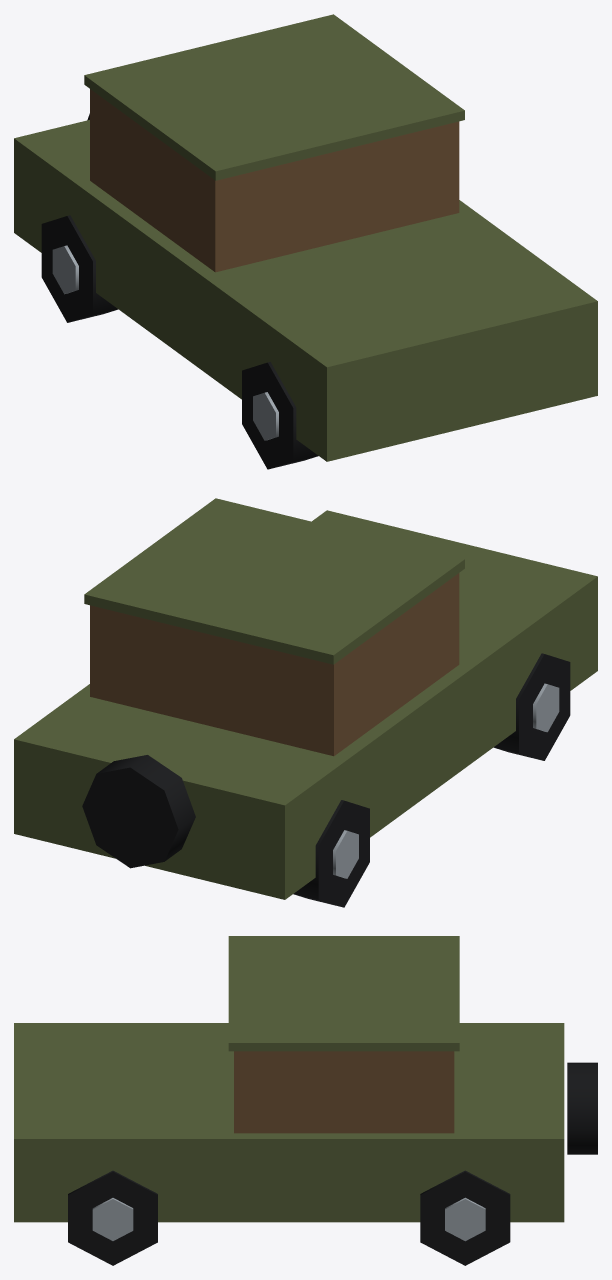
The model's file is veh_ground_jeep_a05_lod1.glb.
The picture shows the model from 3 angles, top to bottom: view 1: azimuth 30°, elevation 25°; view 2: azimuth 150°, elevation 25°; view 3: azimuth 270°, elevation 25°; orthographic projection. The views are drawn at different scales.
Parts seen in each view (by area): view 1: body, wheel_0, wheel_2; view 2: body, wheel_2, wheel_0; view 3: body, wheel_1, wheel_3.
Boxes of the visible parts, x1=… form: body: x1=14, y1=14, x2=597, y2=461; wheel_0: x1=41, y1=215, x2=118, y2=322; wheel_2: x1=242, y1=362, x2=318, y2=469; body: x1=14, y1=498, x2=597, y2=899; wheel_2: x1=493, y1=653, x2=570, y2=760; wheel_0: x1=293, y1=800, x2=369, y2=907; body: x1=14, y1=936, x2=597, y2=1222; wheel_1: x1=420, y1=1170, x2=510, y2=1265; wheel_3: x1=68, y1=1170, x2=157, y2=1265.
Bounding box in the file's own units: 1.88 × 1.57 × 3.82.
